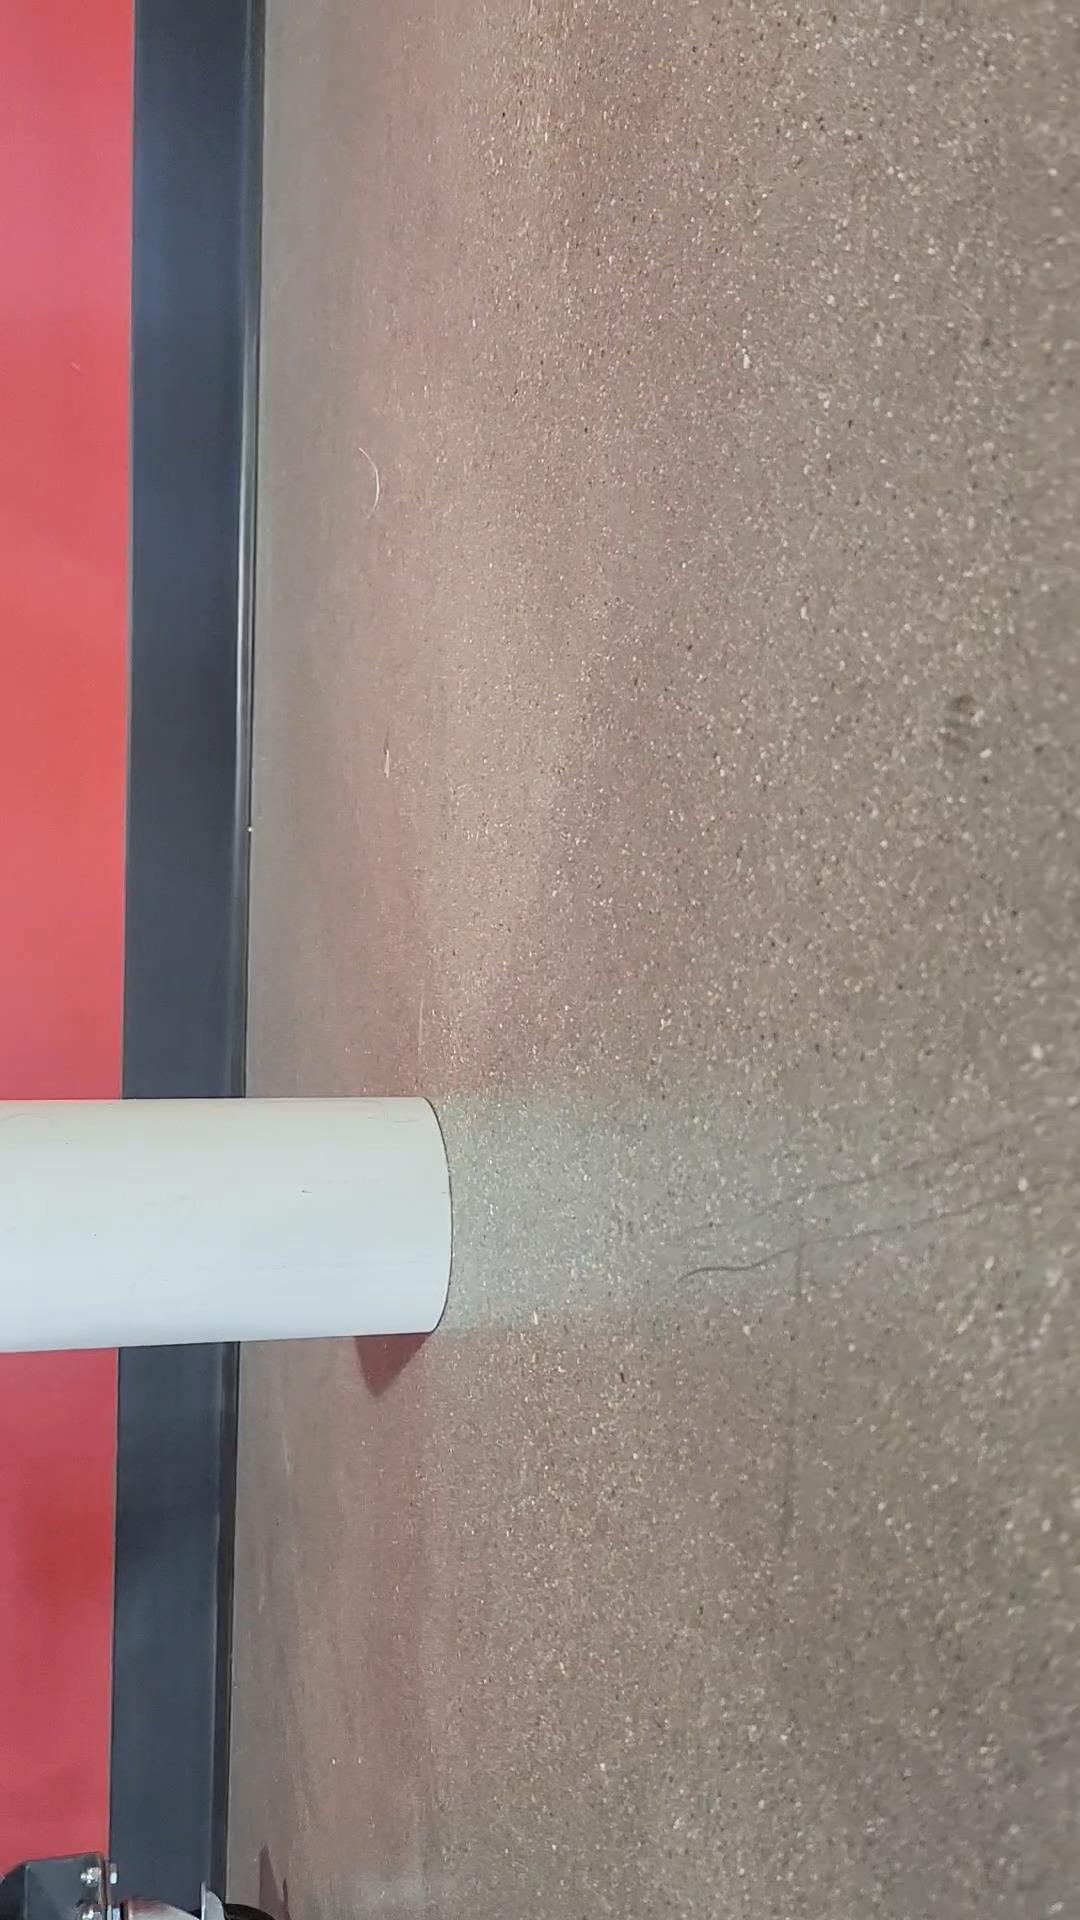coral: (0, 1075, 476, 1353)
